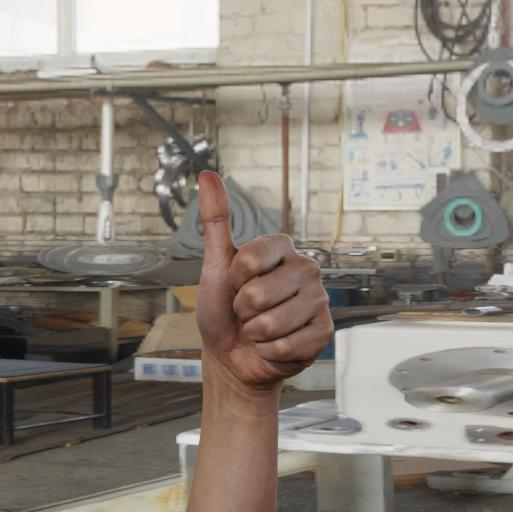thumbs-up: (191, 149, 344, 393)
